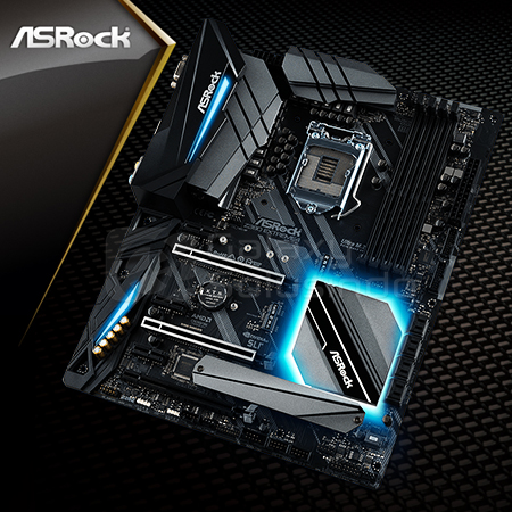CPU: (282, 121, 374, 221)
GPU: (139, 316, 257, 361), (172, 243, 286, 288)
MOTHERBOARD: (62, 19, 504, 494)
RAM: (355, 118, 452, 279)
SSD: (261, 301, 284, 337), (317, 254, 334, 279)
